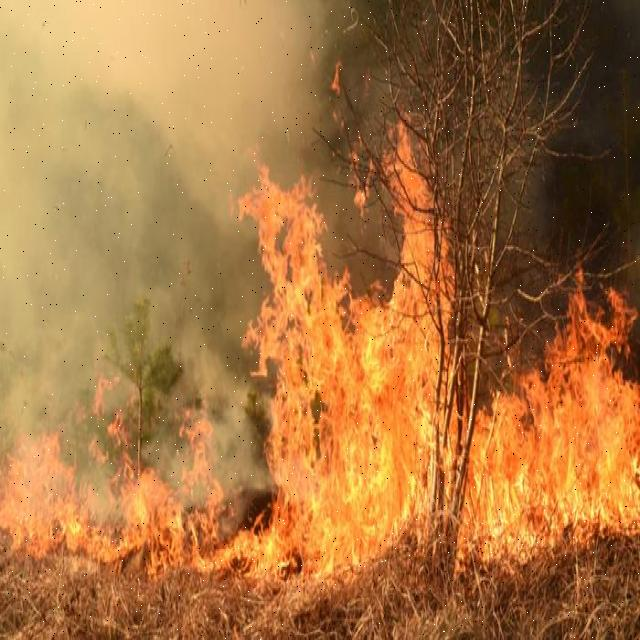fire: (247, 176, 368, 540), (495, 296, 606, 552), (118, 468, 195, 576), (14, 428, 76, 558)
